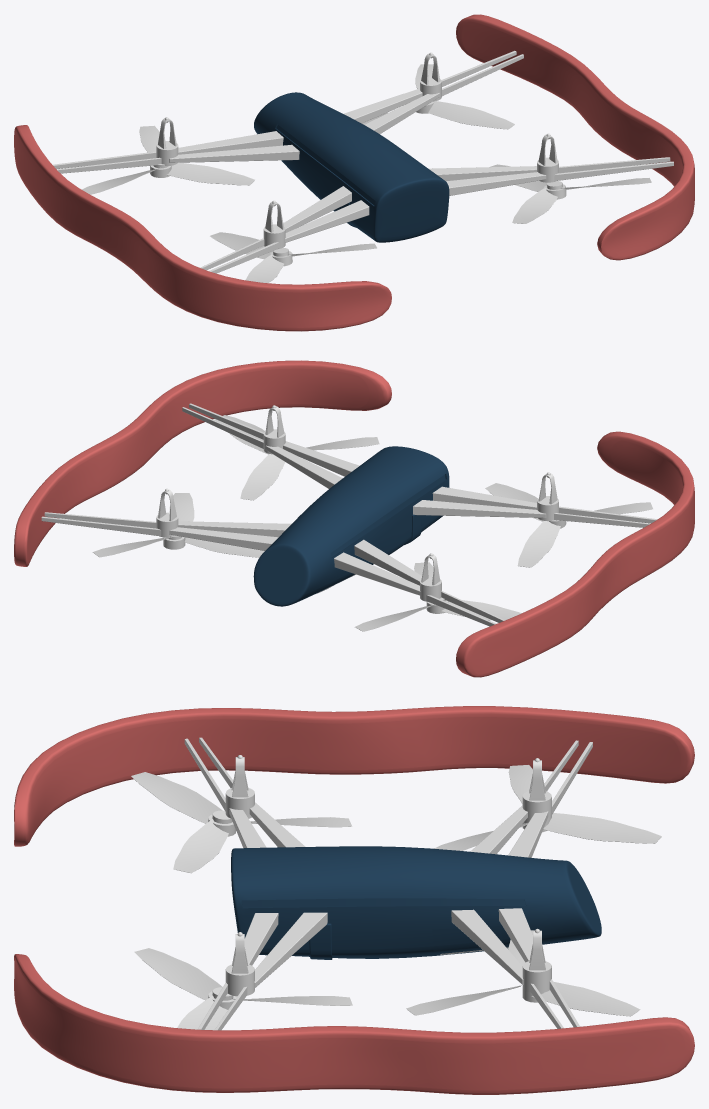
Rendered from parrot_bebop_droneAnimatedB.fbx.
3 renders of one model, top to bottom at view 1: azimuth 30°, elevation 25°; view 2: azimuth 150°, elevation 25°; view 3: azimuth 270°, elevation 25°, orthographic. The views are drawn at different scales.
Parts seen in each view (by area): view 1: SideArchs, Body, Cubo_5, Cubo_1, Cubo_1_5, Cubo_2, Cubo_1_2, Cubo_7, Cubo_2_3.001, Cubo_2_3, Cubo_1_6, Cubo_4 (+9 smaller); view 2: SideArchs, Body, Cubo_2, Cubo_1_5, Cubo_5, Cubo_1, Cubo_1_6, Cubo_4, Cubo_7, Cubo_1_2, Cubo_1_4.001, Cubo_2_2 (+11 smaller); view 3: SideArchs, Body, Cubo_5, Cubo_2, Cubo_3_3, Cubo_1_5, Cubo_1, Cubo_3_2.001, Cubo_1_4, Cubo_3_3.001, Cubo_2_2.001, Cilindro (+13 smaller).
Part boxes in pixels (x1,y1,x2,y2): SideArchs: [14, 14, 694, 331]; Body: [254, 92, 449, 242]; Cubo_5: [169, 93, 439, 162]; Cubo_1: [285, 172, 546, 242]; Cubo_1_5: [178, 88, 422, 154]; Cubo_2: [283, 166, 536, 232]; Cubo_1_2: [209, 161, 673, 273]; Cubo_7: [57, 54, 523, 173]; Cubo_2_3.001: [428, 101, 514, 129]; Cubo_2_3: [167, 162, 254, 185]; Cubo_1_6: [52, 50, 516, 168]; Cubo_4: [200, 157, 670, 270]; SideArchs: [14, 360, 694, 677]; Body: [253, 446, 449, 606]; Cubo_2: [265, 445, 546, 517]; Cubo_1_5: [169, 527, 420, 595]; Cubo_5: [178, 521, 421, 585]; Cubo_1: [283, 441, 536, 509]; Cubo_1_6: [41, 516, 496, 626]; Cubo_4: [182, 407, 650, 527]; Cubo_7: [44, 512, 504, 622]; Cubo_1_2: [189, 403, 657, 523]; Cubo_1_4.001: [517, 521, 560, 567]; Cubo_2_2: [240, 454, 285, 500]; SideArchs: [14, 706, 694, 1094]; Body: [231, 846, 601, 959]; Cubo_5: [451, 805, 527, 984]; Cubo_2: [249, 802, 327, 988]; Cubo_3_3: [543, 813, 661, 843]; Cubo_1_5: [498, 811, 548, 962]; Cubo_1: [229, 808, 278, 965]; Cubo_3_2.001: [131, 772, 222, 823]; Cubo_1_4: [134, 948, 222, 1000]; Cubo_3_3.001: [531, 981, 640, 1016]; Cubo_2_2.001: [173, 819, 228, 873]; Cilindro: [225, 788, 254, 996].
Bounding box in the file's own units: 30918 × 4748 × 26707.
